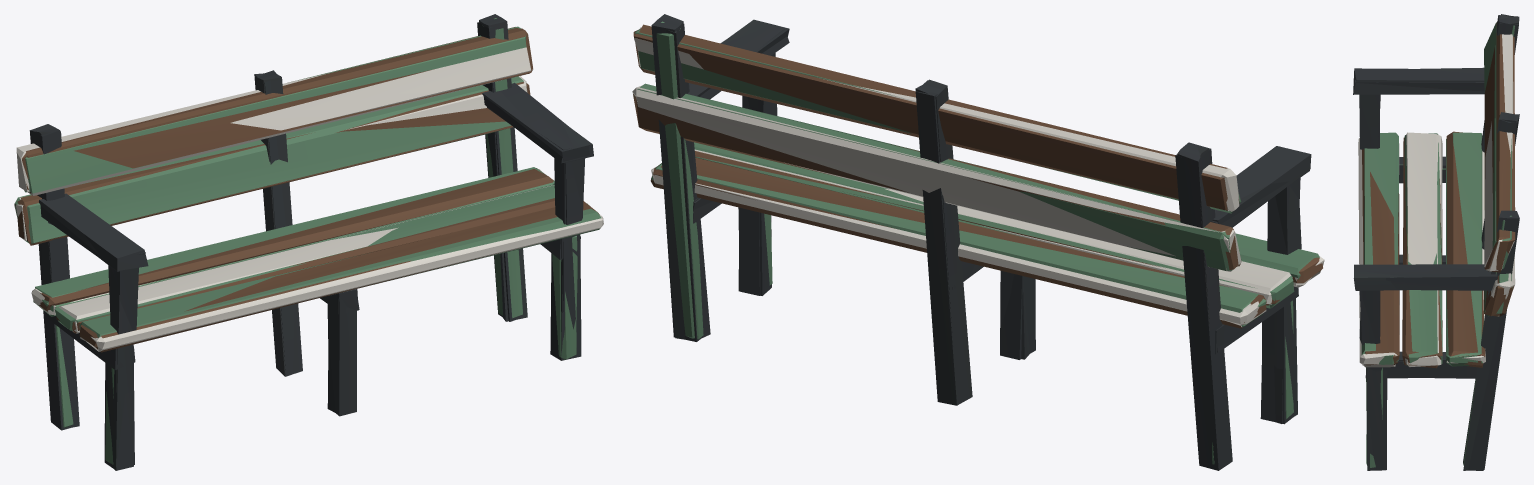
File: bench.glb
The picture shows the model from 3 angles, left to right: view 1: azimuth 30°, elevation 25°; view 2: azimuth 150°, elevation 25°; view 3: azimuth 270°, elevation 25°; orthographic projection. The views are drawn at different scales.
Parts seen in each view (by area): view 1: bench.v0.mesh, bench.v1.mesh, bench.v2.mesh; view 2: bench.v0.mesh, bench.v2.mesh, bench.v1.mesh; view 3: bench.v0.mesh, bench.v2.mesh, bench.v1.mesh.
Part boxes in pixels (x1=…): bench.v0.mesh: x1=17, y1=14, x2=599, y2=470; bench.v1.mesh: x1=14, y1=18, x2=601, y2=464; bench.v2.mesh: x1=14, y1=22, x2=603, y2=470; bench.v0.mesh: x1=633, y1=14, x2=1322, y2=470; bench.v2.mesh: x1=632, y1=24, x2=1324, y2=423; bench.v1.mesh: x1=634, y1=21, x2=1319, y2=464; bench.v0.mesh: x1=1354, y1=14, x2=1519, y2=470; bench.v2.mesh: x1=1353, y1=15, x2=1519, y2=470; bench.v1.mesh: x1=1361, y1=22, x2=1514, y2=467.
Size of the model in its own units: 1.71 by 0.9057 by 0.5409.
